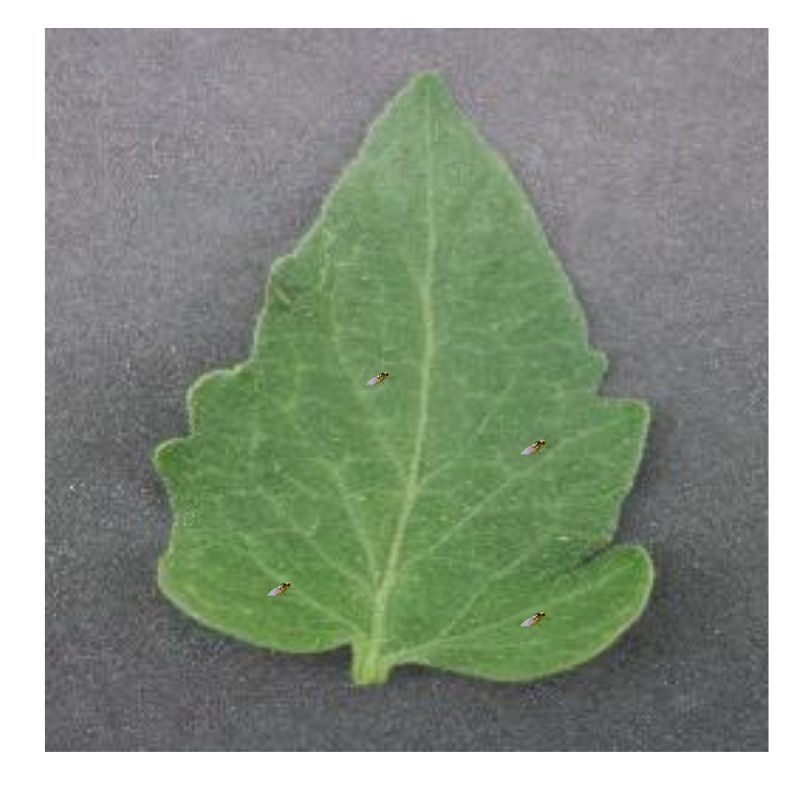liriomyza: (264, 579, 294, 599), (361, 370, 392, 389), (519, 438, 548, 458), (519, 609, 547, 628)
